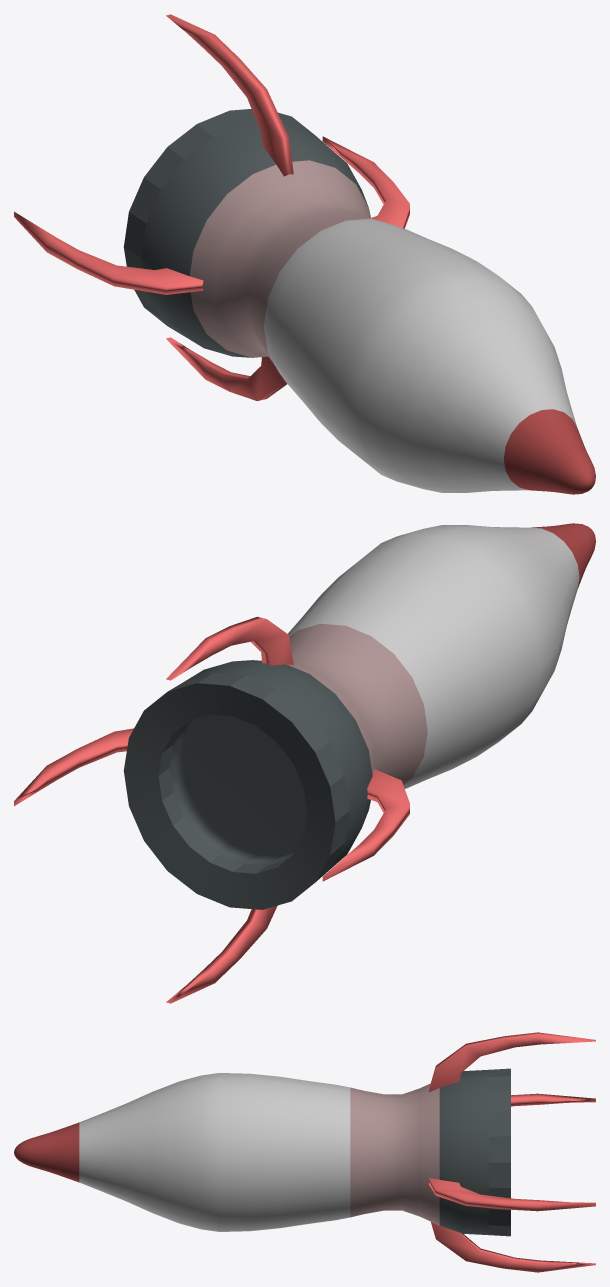
File: Rocket.fbx
3 renders of one model, top to bottom at view 1: azimuth 30°, elevation 25°; view 2: azimuth 150°, elevation 25°; view 3: azimuth 270°, elevation 25°, orthographic. The views are drawn at different scales.
Visible parts, largest first — view 1: Body, Landing; view 2: Body, Landing; view 3: Body, Landing.
Boxes of the visible parts, box(x1,y1,x2,y2) form: Body: box(123, 109, 595, 494); Landing: box(14, 14, 409, 401); Body: box(123, 523, 595, 909); Landing: box(14, 616, 409, 1003); Body: box(14, 1068, 510, 1236); Landing: box(429, 1032, 595, 1272).
Bounding box in the file's own units: 3.45 × 3.45 × 7.68.
